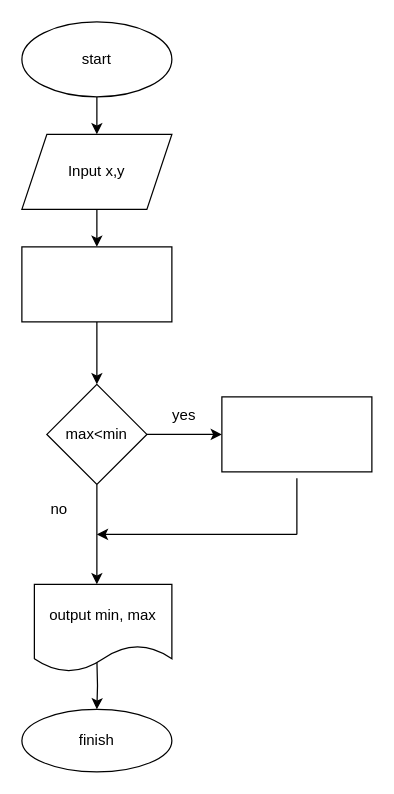
Image size: 394x794. Some labels were removed from this diagram. The box of each missing label's shape, as (x1, y1, x2, y2) in pixels:
max=y min=x: (21, 246, 172, 322)
min=y max=x: (221, 396, 372, 472)
